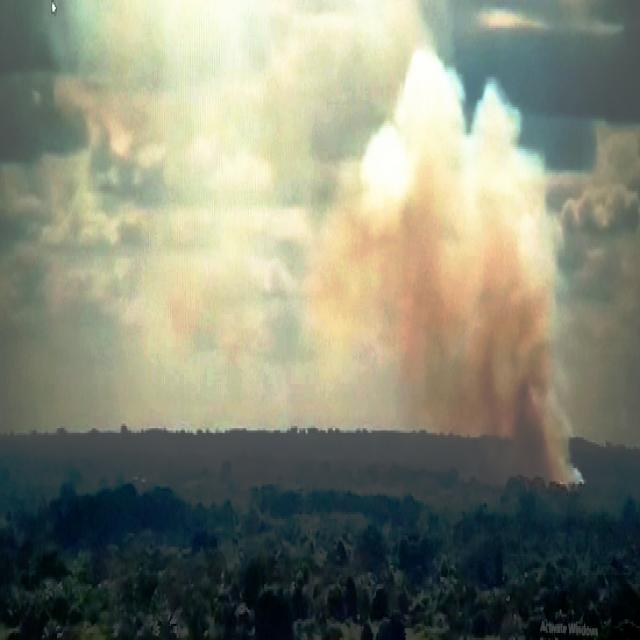asap: (289, 31, 592, 511)
